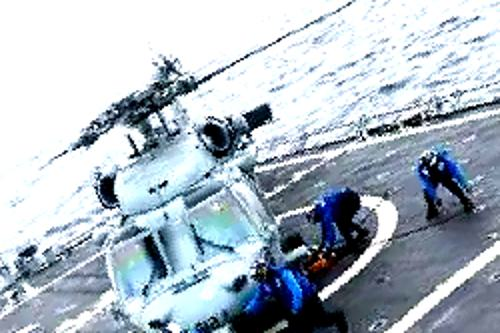Apron: (1, 189, 418, 333)
